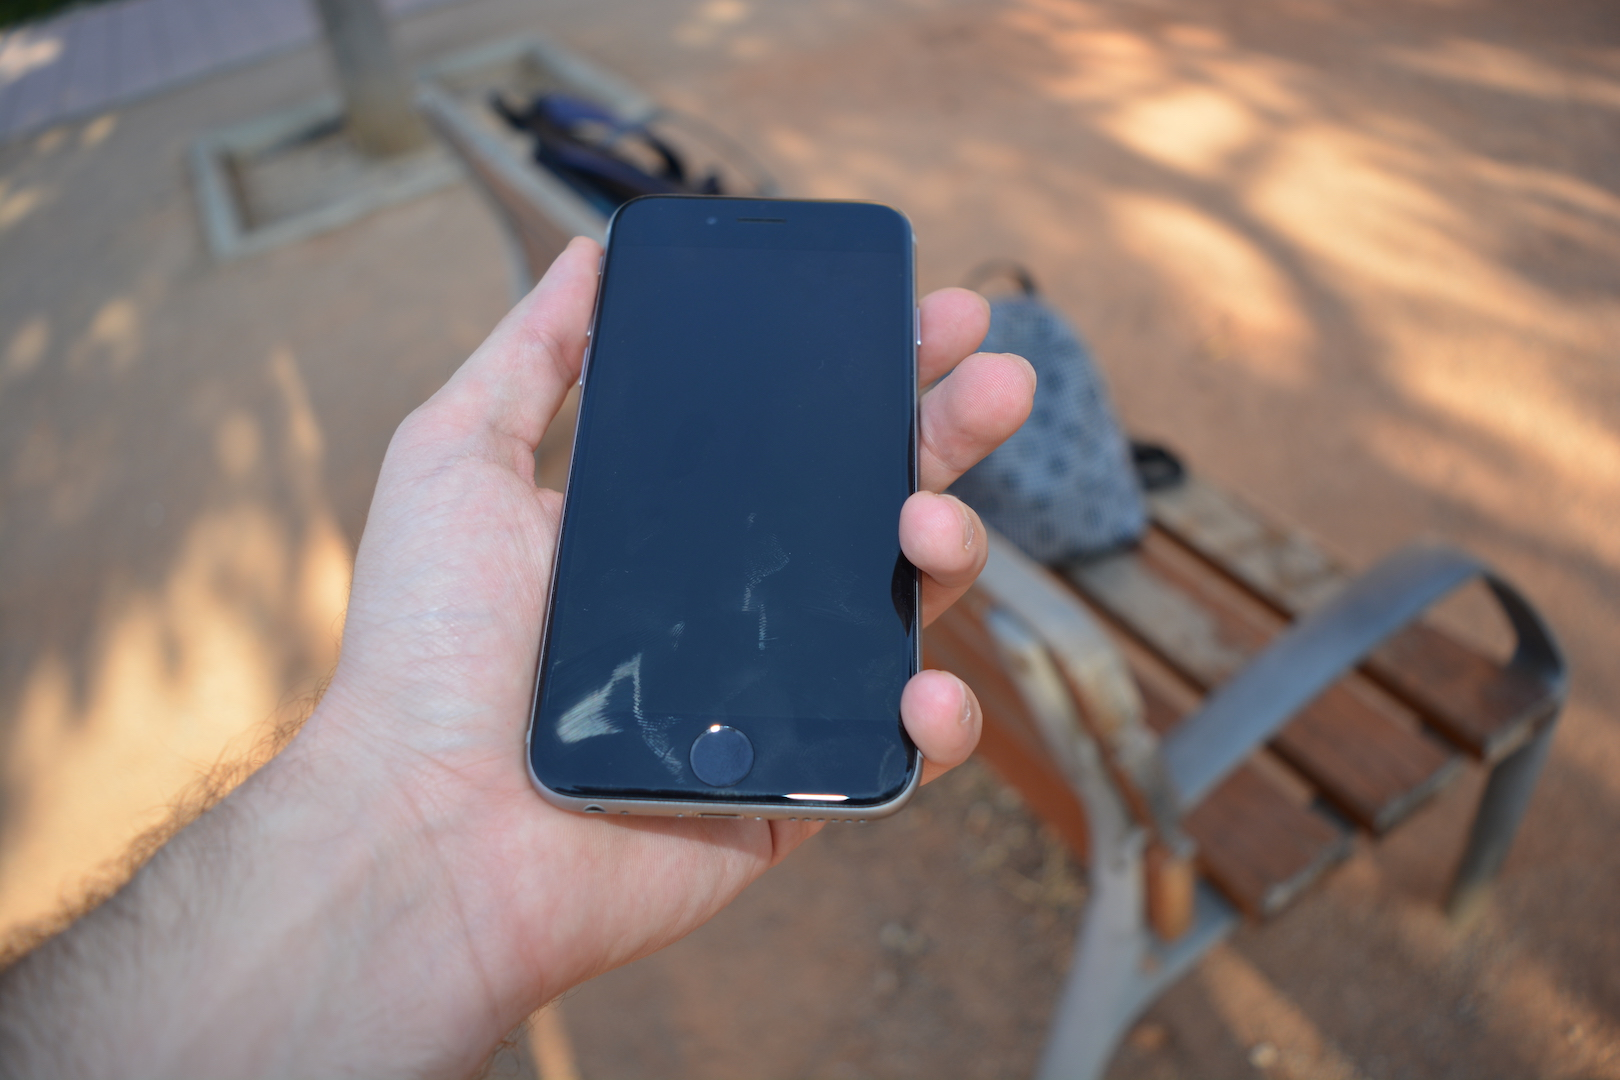smartphone: (523, 190, 925, 824)
